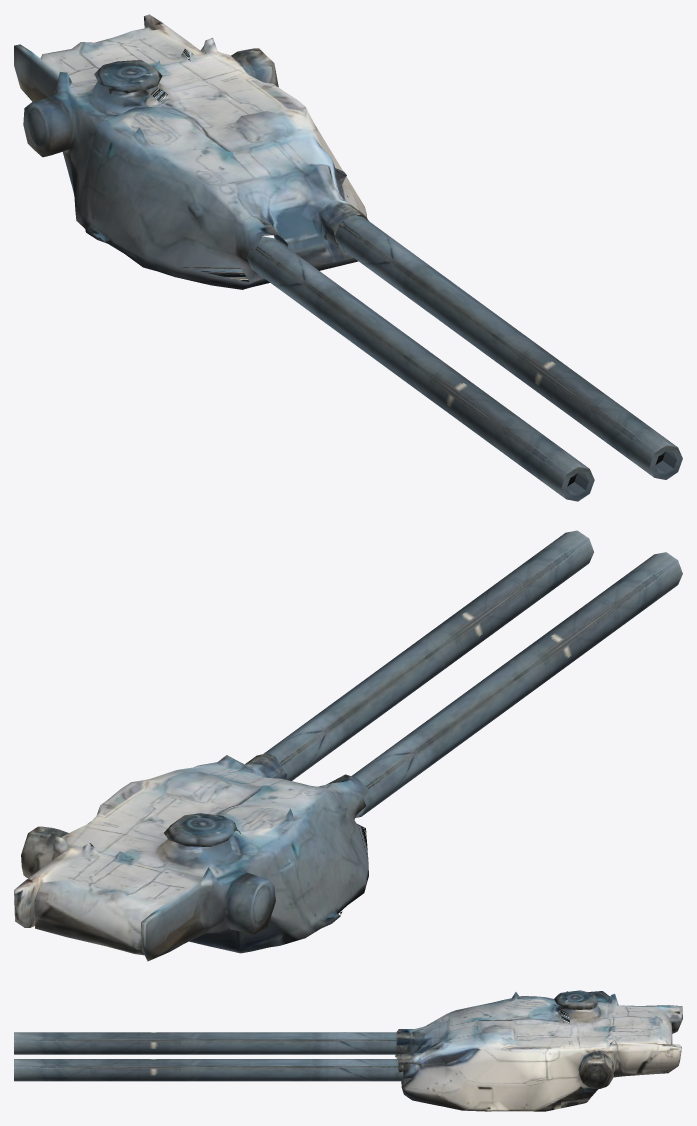
Rendered from torreta_tank.dae.
3 views of the same model, one above another, from view 1: azimuth 30°, elevation 25°; view 2: azimuth 150°, elevation 25°; view 3: azimuth 270°, elevation 25° (orthographic). The views are drawn at different scales.
Parts seen in each view (by area): view 1: tank_01_t; view 2: tank_01_t; view 3: tank_01_t.
Part boxes in pixels (x1,y1,x2,y2): tank_01_t: (14, 14, 682, 501); tank_01_t: (14, 530, 682, 961); tank_01_t: (14, 990, 682, 1111).
Bounding box in the file's own units: 6 × 23.53 × 2.99.
